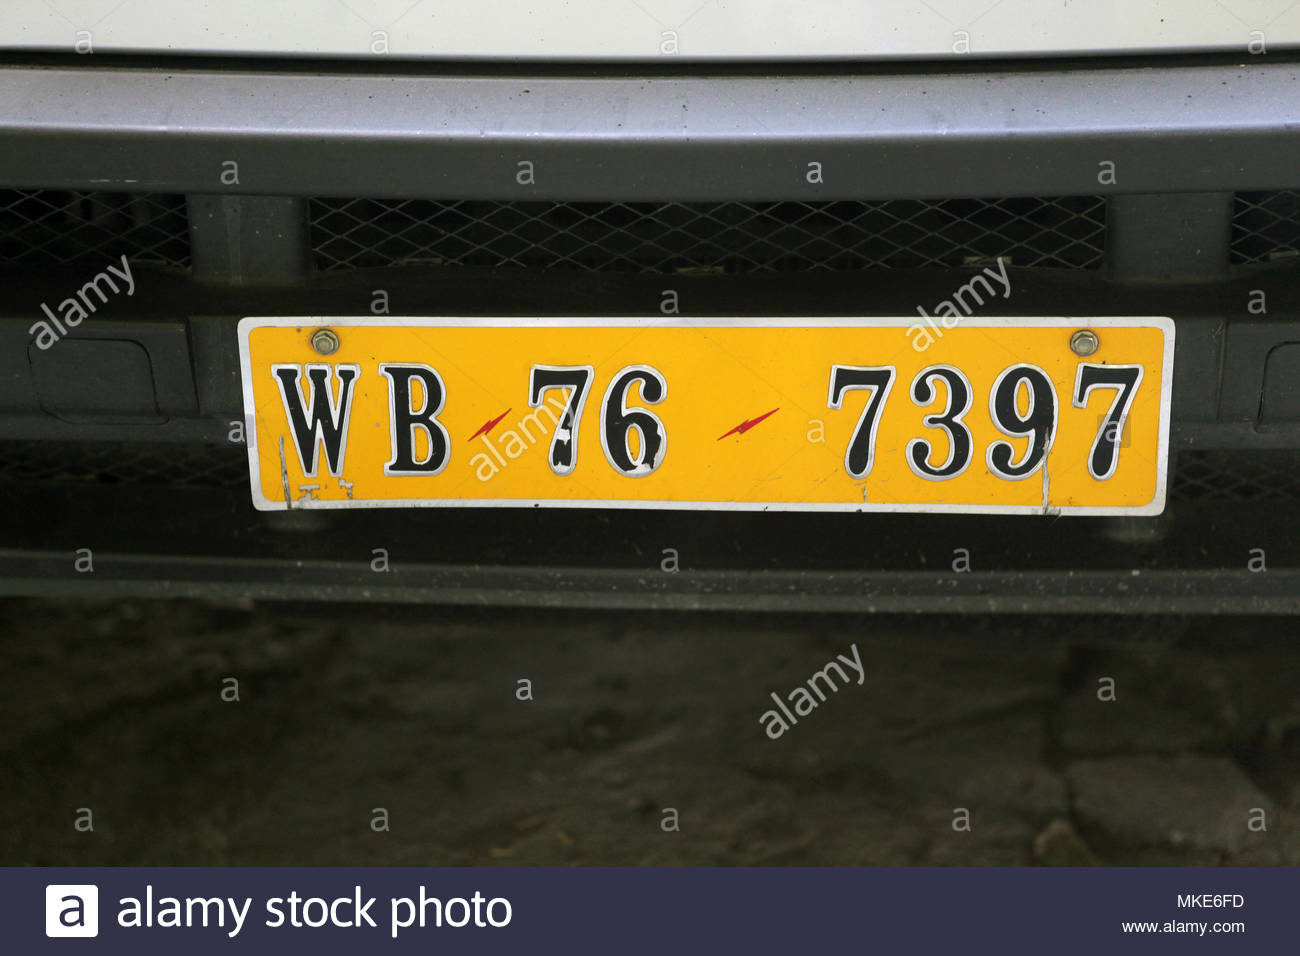number_plate: (239, 314, 1170, 515)
